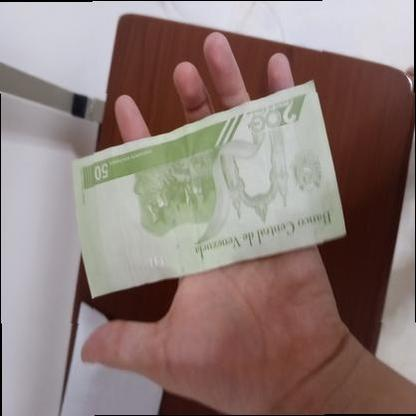fifty-back-vef: (71, 78, 348, 299)
